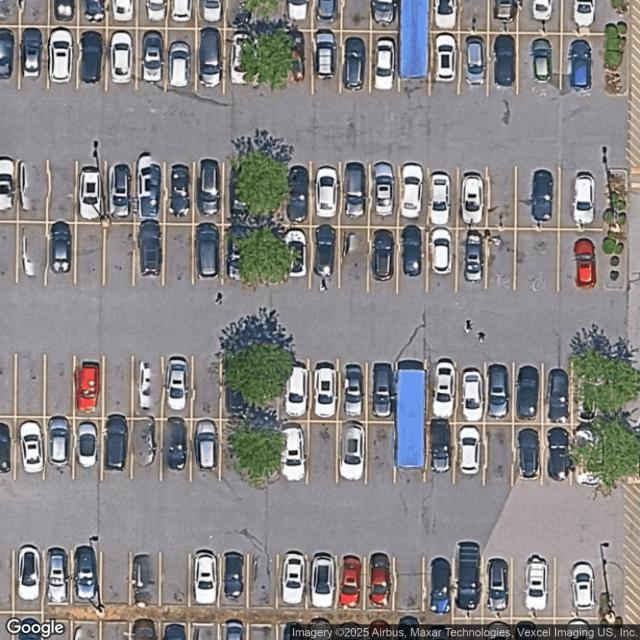car: (458, 542, 483, 612), (137, 152, 161, 219), (78, 165, 104, 219), (229, 29, 255, 83), (48, 28, 74, 81), (138, 220, 162, 276), (196, 222, 220, 278), (105, 414, 129, 470), (530, 169, 554, 224), (48, 220, 72, 274), (195, 550, 218, 606), (429, 558, 452, 614), (344, 426, 366, 484), (199, 28, 221, 86), (75, 362, 100, 413), (546, 427, 570, 480), (516, 365, 539, 420), (80, 31, 104, 83), (17, 545, 40, 599), (572, 172, 595, 226), (74, 545, 97, 599), (373, 161, 395, 217), (110, 31, 134, 82), (282, 426, 304, 481), (371, 229, 395, 279), (132, 416, 156, 466), (568, 39, 591, 91), (285, 361, 307, 415), (547, 368, 569, 422), (46, 547, 68, 601), (286, 166, 308, 220), (372, 362, 394, 416), (429, 418, 451, 472), (282, 555, 305, 606), (194, 419, 217, 470), (314, 556, 336, 609), (168, 163, 190, 216), (486, 557, 508, 610), (283, 228, 307, 276), (461, 370, 484, 420), (517, 428, 540, 478), (343, 36, 365, 88), (165, 417, 187, 469), (403, 166, 424, 220), (369, 553, 390, 607), (167, 40, 191, 87), (142, 31, 164, 82), (493, 35, 515, 86), (21, 28, 43, 79), (574, 238, 596, 289), (434, 361, 454, 417), (527, 558, 547, 614), (464, 174, 485, 227), (458, 426, 481, 474), (317, 364, 338, 416), (200, 161, 219, 218), (429, 227, 452, 274), (488, 363, 508, 417), (346, 166, 366, 220), (318, 171, 339, 221), (169, 358, 188, 413), (376, 41, 396, 93), (22, 424, 42, 476), (314, 226, 334, 278), (340, 555, 360, 607), (223, 552, 245, 599), (404, 227, 423, 280), (114, 167, 133, 220), (430, 177, 450, 227), (77, 421, 98, 468), (315, 29, 335, 78), (531, 38, 552, 84), (132, 554, 152, 600), (437, 34, 456, 82), (346, 363, 363, 416), (286, 28, 304, 78), (0, 157, 16, 213), (467, 236, 485, 284), (573, 564, 591, 612), (229, 168, 245, 220), (465, 39, 483, 85), (52, 421, 69, 469), (226, 229, 242, 279), (0, 28, 14, 78), (371, 0, 396, 25), (434, 1, 457, 28), (572, 0, 594, 28), (21, 235, 35, 278), (0, 421, 11, 474), (398, 615, 420, 639), (18, 617, 42, 639), (494, 0, 518, 21), (140, 365, 151, 410), (565, 621, 592, 639), (132, 619, 156, 639), (171, 0, 192, 22), (201, 0, 222, 22), (145, 0, 167, 21), (84, 0, 105, 22), (514, 621, 539, 639), (111, 1, 133, 21), (286, 1, 308, 21), (532, 0, 552, 21), (54, 0, 74, 21), (163, 622, 186, 640), (368, 621, 391, 639), (308, 622, 331, 639), (74, 623, 98, 639), (281, 621, 301, 640), (318, 1, 336, 22), (487, 623, 510, 639), (225, 618, 243, 638)
lot_boundary: (0, 0, 607, 639)
